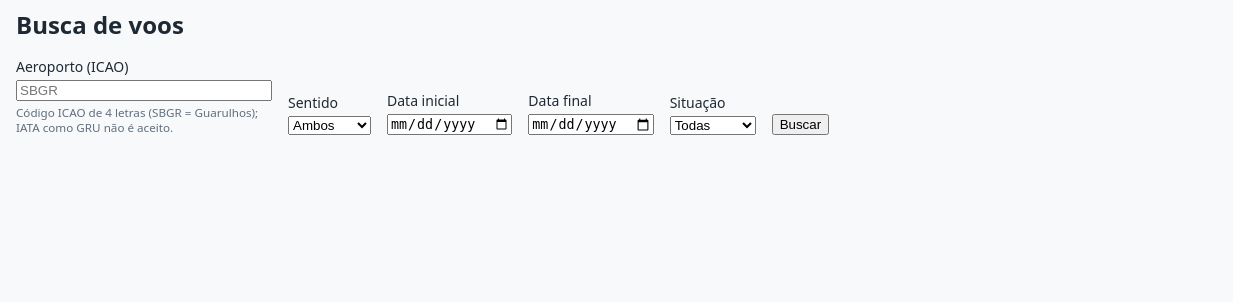
Test: Tela de busca › Busca com filtros: envia os filtros em maiúsculas e a página 0
The width and height of the screenshot is (1233, 302).
Select "Saídas" in the dropdown labelled "Sentido" at (330, 126), box [288,116,371,135]
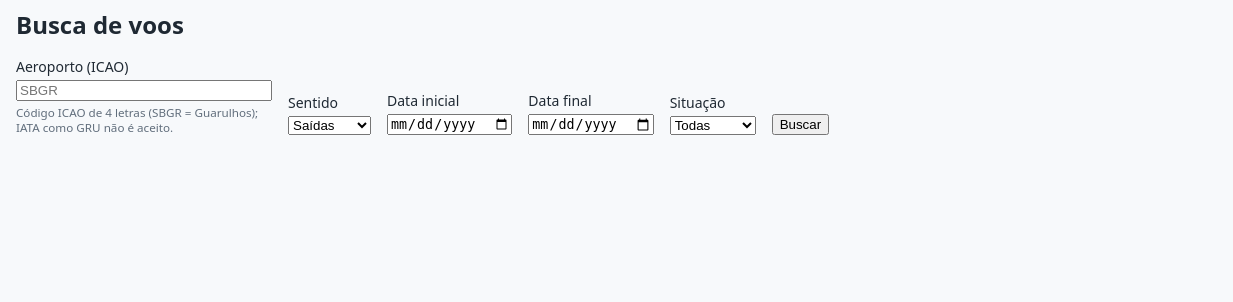
Select "Cancelado" in the dropdown labelled "Situação" at (713, 126), box [670,116,756,135]
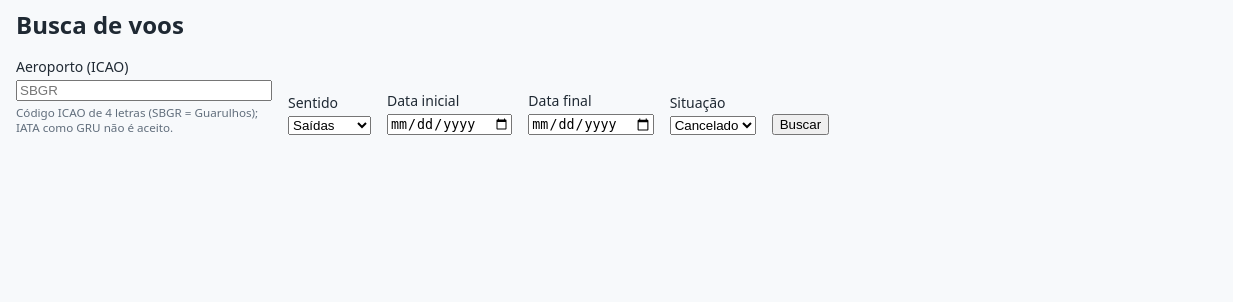
Type "sbgr" into the field labelled "Aeroporto" at (144, 90), box [16,80,272,101]
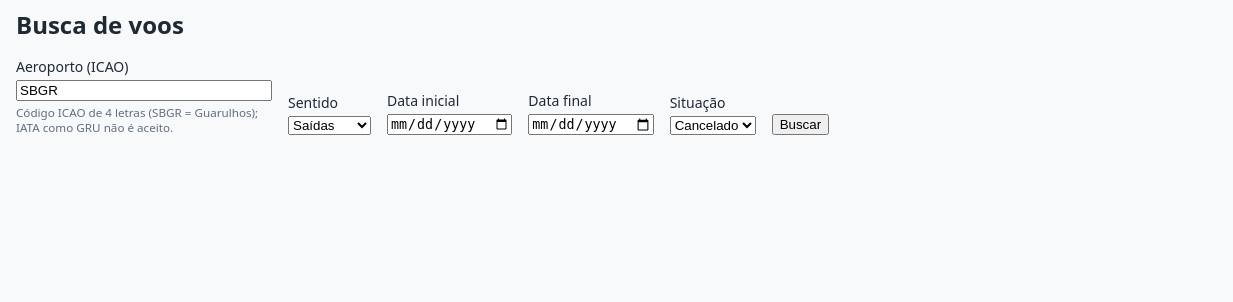
Click the button "Buscar" at (800, 124), box [772,114,829,135]
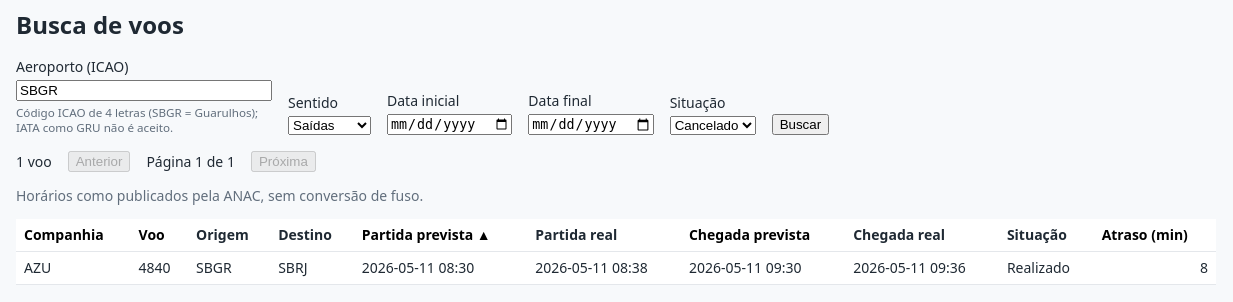
Check: the table is shown, box [16,219,1216,285]
Check: the cell "SBGR" is shown, box [188,251,270,284]
Check: the text "4840" is shown, box [131,251,188,284]
